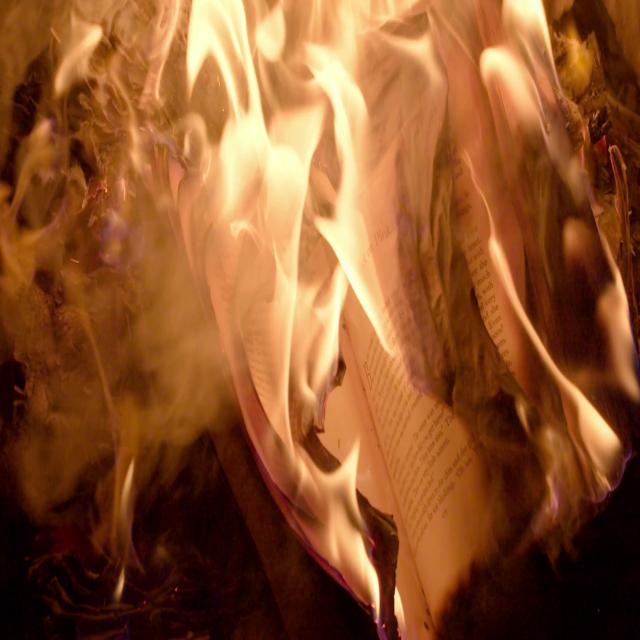Fire: (184, 34, 399, 640), (303, 14, 448, 389), (483, 195, 620, 496), (479, 0, 591, 221), (590, 252, 640, 414), (185, 0, 265, 85), (312, 0, 420, 31), (262, 6, 286, 64)
Smoke: (25, 49, 221, 545)
